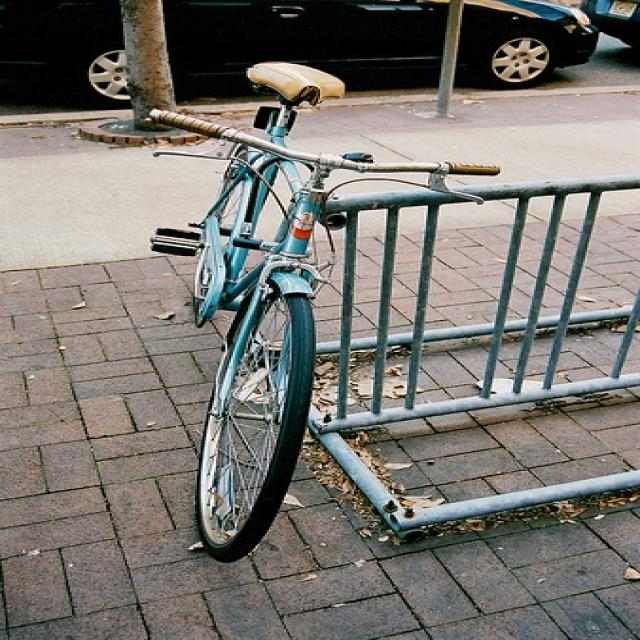bicycle: (148, 63, 500, 562)
car: (0, 0, 598, 103)
